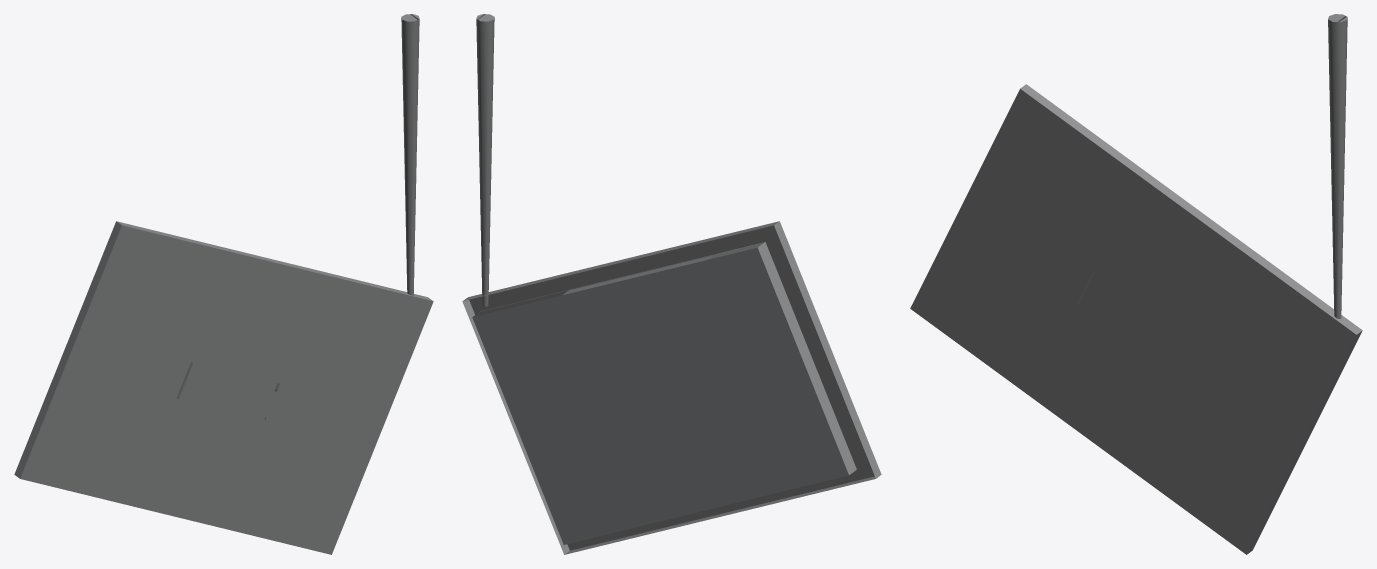
3 renders of one model, left to right at view 1: azimuth 30°, elevation 25°; view 2: azimuth 150°, elevation 25°; view 3: azimuth 330°, elevation 25°, orthographic. The views are drawn at different scales.
Size of the model in its own units: 0.4546 by 0.541 by 0.0315.
